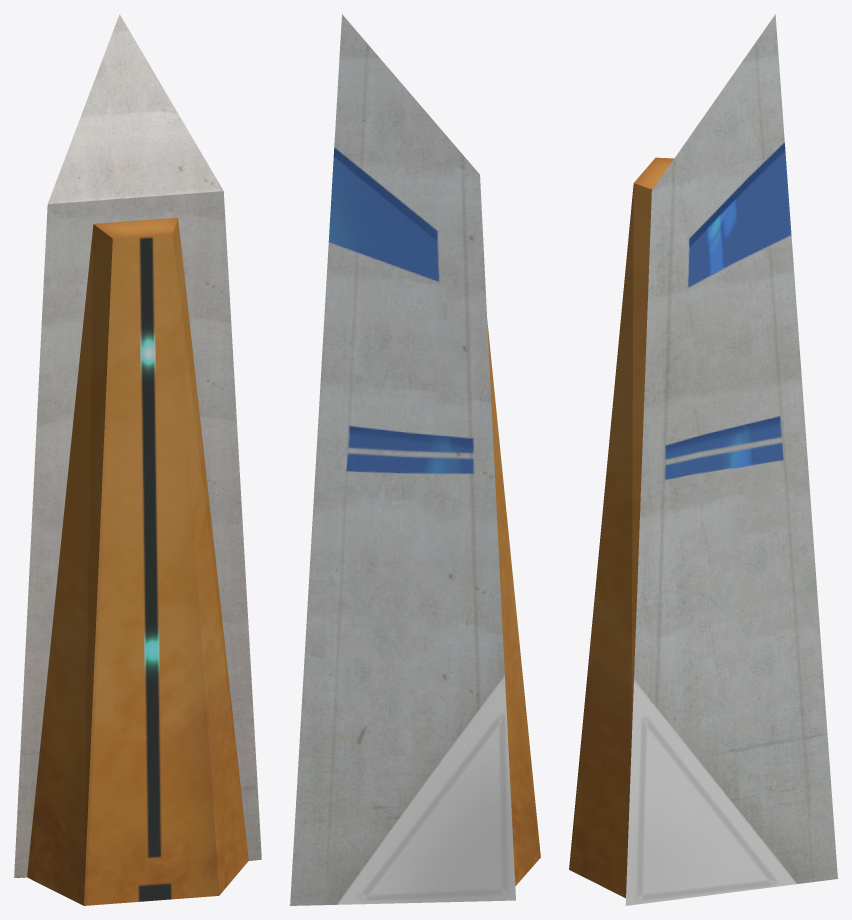
Rendered from House_20.FBX.
The picture shows the model from 3 angles, left to right: view 1: azimuth 30°, elevation 25°; view 2: azimuth 150°, elevation 25°; view 3: azimuth 270°, elevation 25°; orthographic projection. The views are drawn at different scales.
Parts seen in each view (by area): view 1: House_20; view 2: House_20; view 3: House_20.
Part boxes in pixels (box(x1,y1,x2,y2)): House_20: box(14, 14, 261, 905); House_20: box(290, 14, 540, 905); House_20: box(569, 14, 837, 905).
Size of the model in its own units: 46.74 by 177 by 50.42.
Materials: 1 (1 with a texture image).
